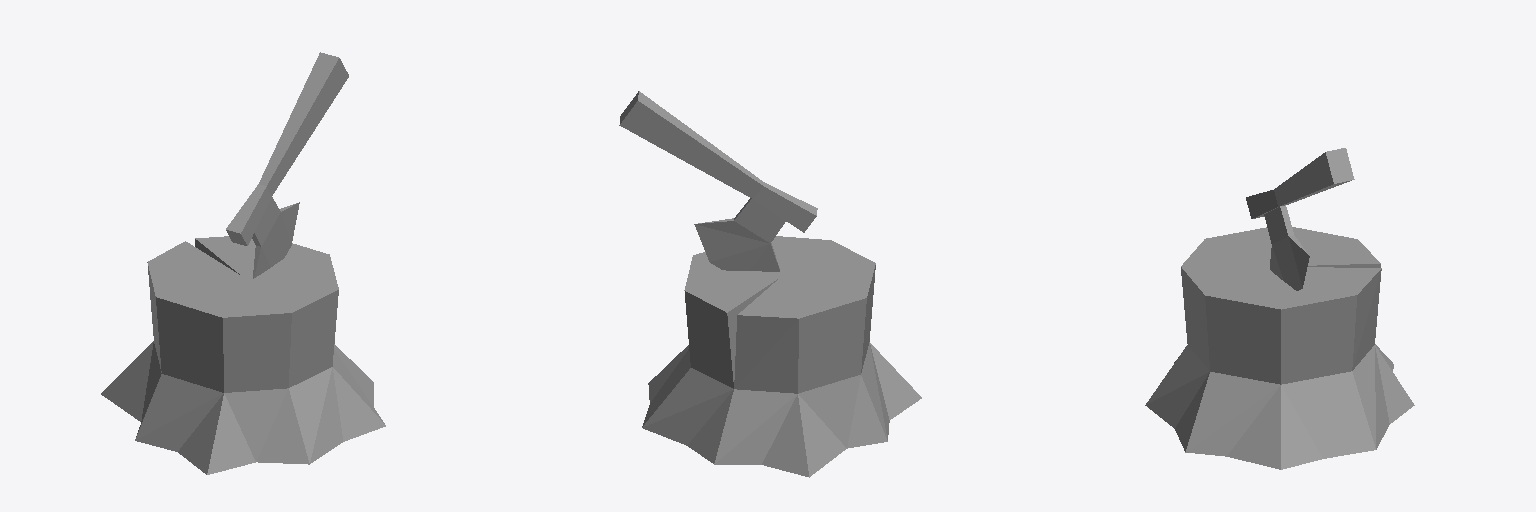
File: farm_stump_01.obj
3 renders of one model, left to right at view 1: azimuth 30°, elevation 25°; view 2: azimuth 150°, elevation 25°; view 3: azimuth 270°, elevation 25°, orthographic.
Parts seen in each view (by area): view 1: farm_stump_farm_stump_mesh; view 2: farm_stump_farm_stump_mesh; view 3: farm_stump_farm_stump_mesh.
Part boxes in pixels (x1,y1,x2,y2): farm_stump_farm_stump_mesh: (101,52,385,474); farm_stump_farm_stump_mesh: (619,91,921,477); farm_stump_farm_stump_mesh: (1145,148,1414,469).
Size of the model in its own units: 0.7593 by 0.9389 by 0.7355.